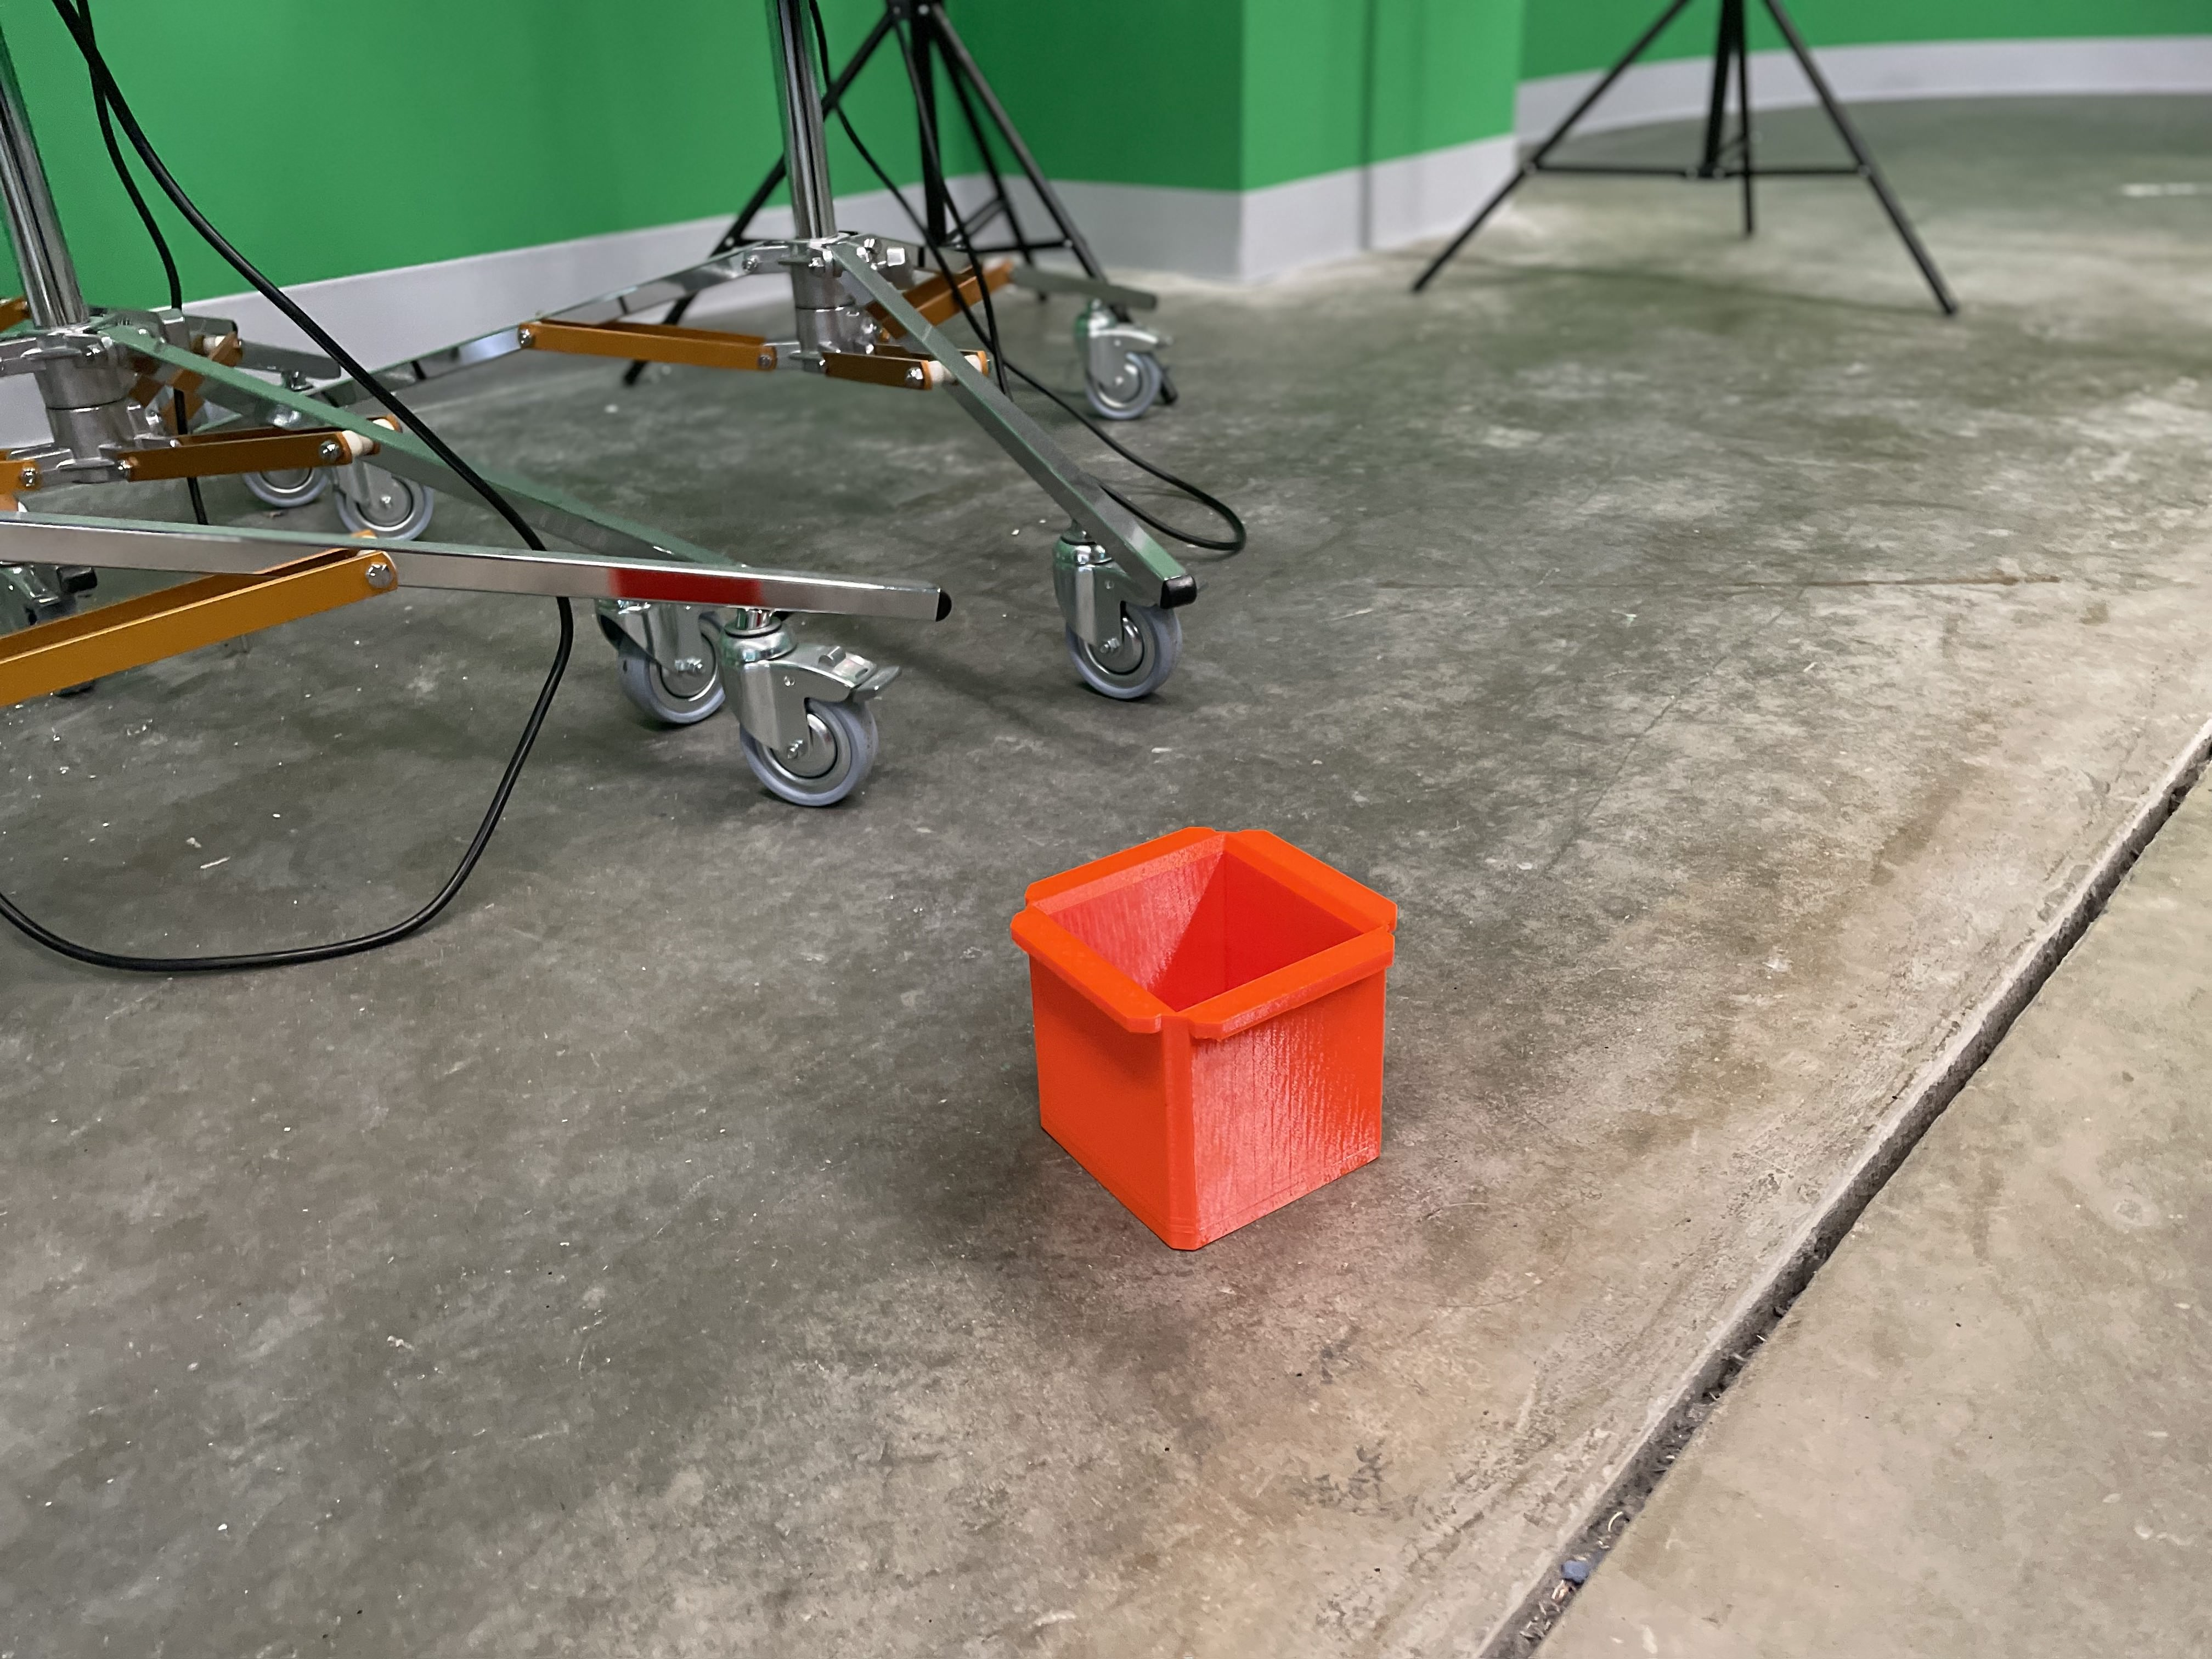payload1: (1000, 816, 1425, 1263)
